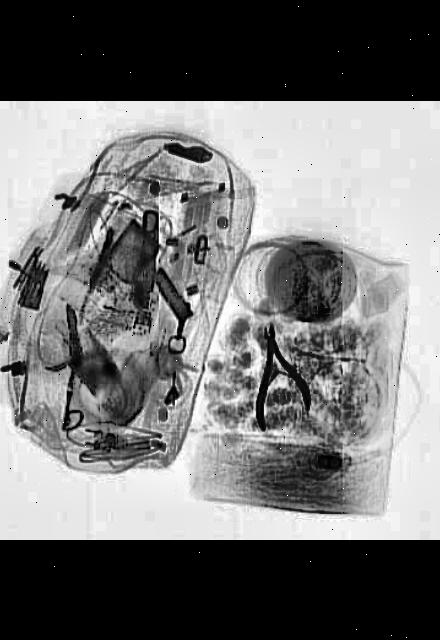Pliers: (237, 323, 315, 433)
